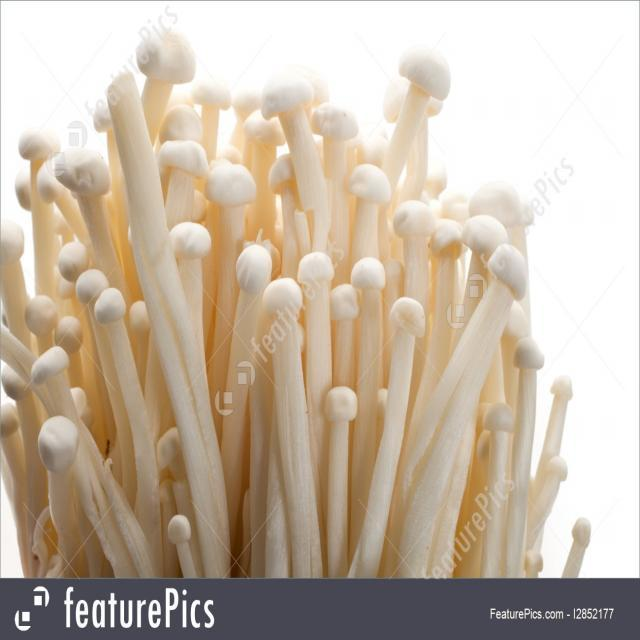Flammulina velutiper: (0, 26, 590, 580)
